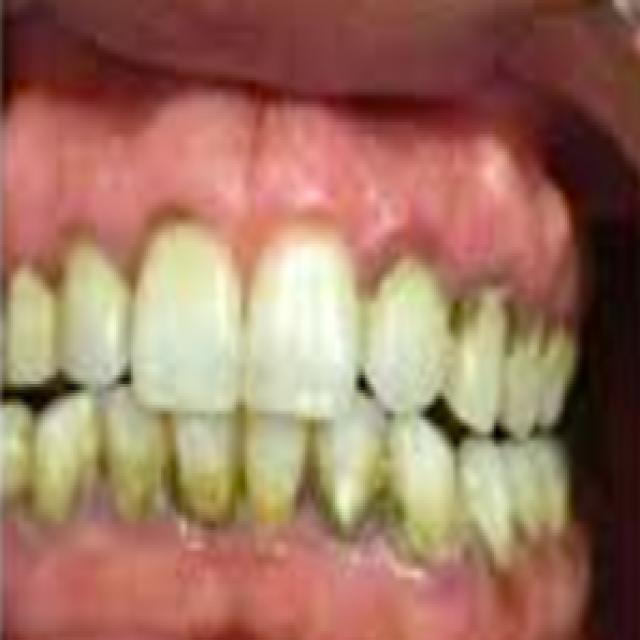calculus: (300, 201, 414, 342), (135, 199, 262, 323), (5, 229, 136, 321), (358, 439, 432, 555), (212, 416, 278, 540), (138, 417, 204, 529), (287, 417, 346, 538), (506, 292, 582, 381), (75, 426, 135, 524), (507, 499, 591, 559), (14, 425, 58, 537), (448, 481, 494, 586), (440, 275, 492, 350)
